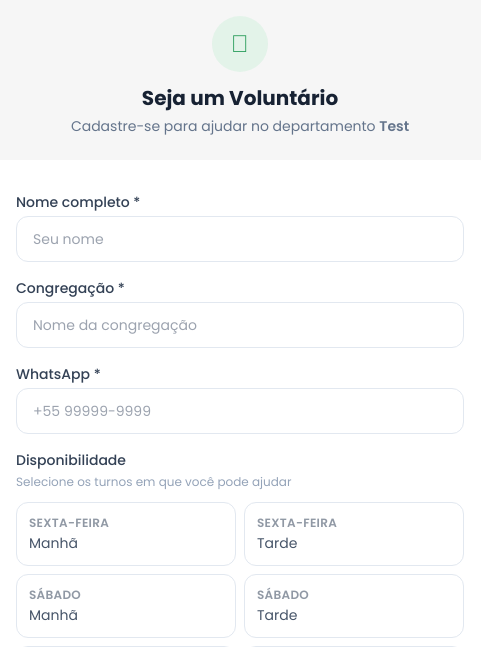
Test: PublicCadastro › formats phone with DDI mask
Type "55119999888" into the field with placeholder "+55 99999-9999". click: {"x": 240, "y": 411}
box: [16,388,464,434]
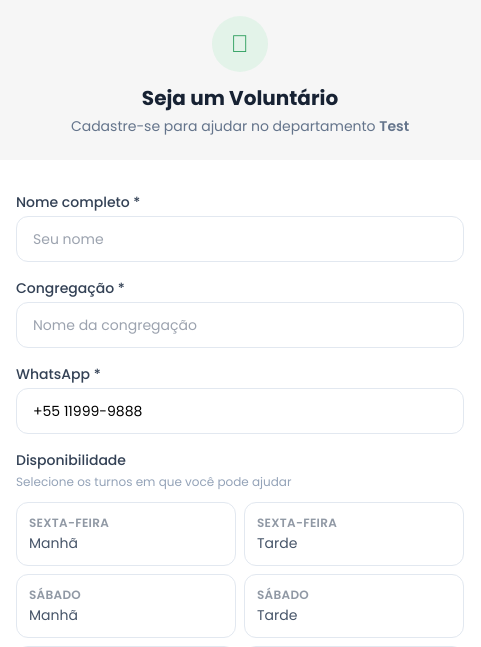
Check: the field with placeholder "+55 99999-9999" holds "+55 11999-9888", box [16,388,464,434]
